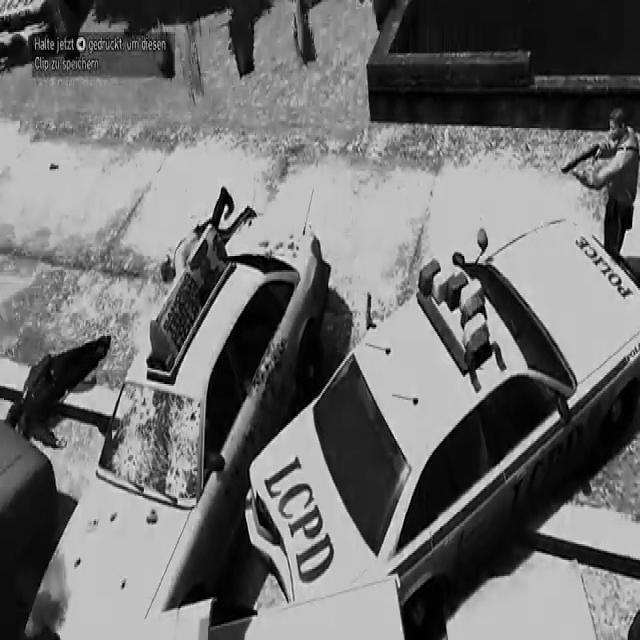moderate: (19, 181, 640, 607)
